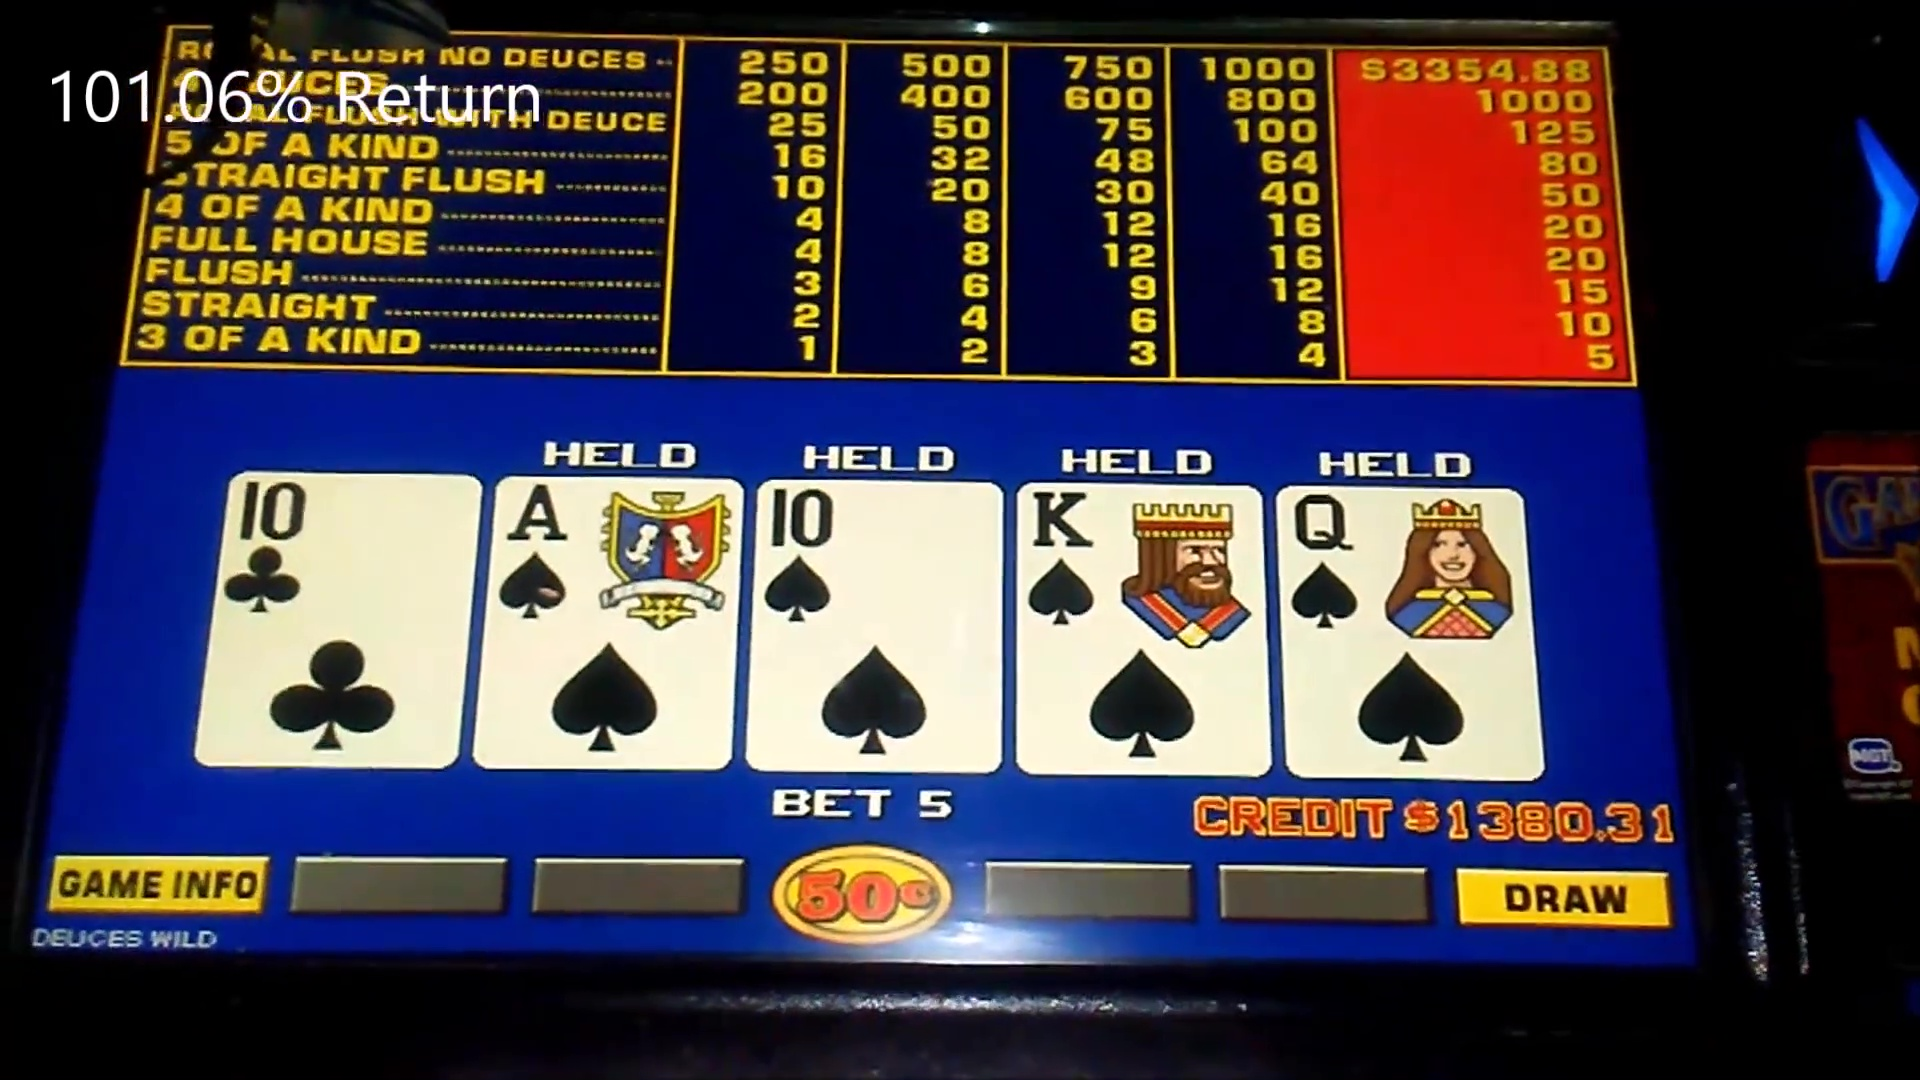AS: (493, 475, 735, 640)
KS: (1019, 483, 1263, 654)
QS: (1280, 491, 1524, 651)
TC: (219, 473, 469, 632)
TS: (757, 483, 993, 640)
